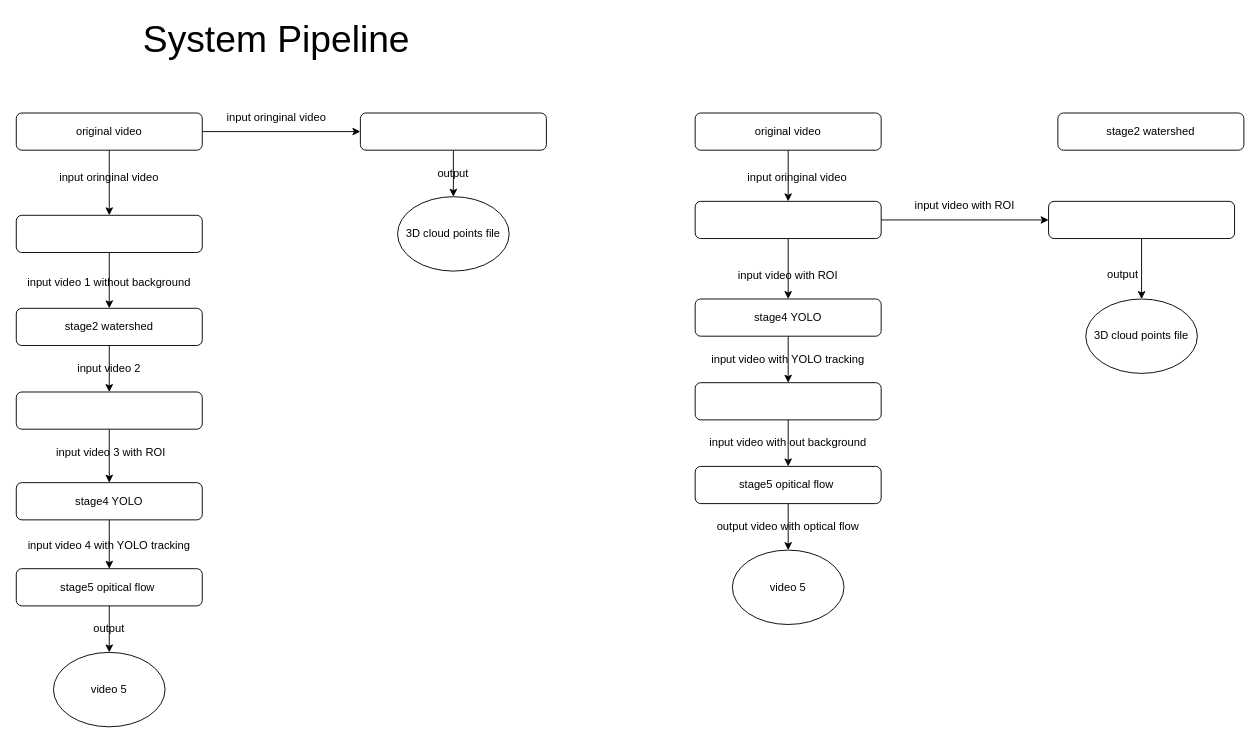
The diagram is 1260 pixels wide and 743 high, and some of its shapes have lost their labels. Each missing label, with the box of its shape:
remove background by yolo tracking frame: (694, 382, 881, 420)
stage 6: (359, 112, 546, 150)
stage 6 feature points: (1048, 200, 1235, 239)
stage1 remove background: (15, 214, 202, 252)
stage3 ROI: (694, 200, 881, 239)
stage3 ROI and classify: (15, 391, 202, 429)
